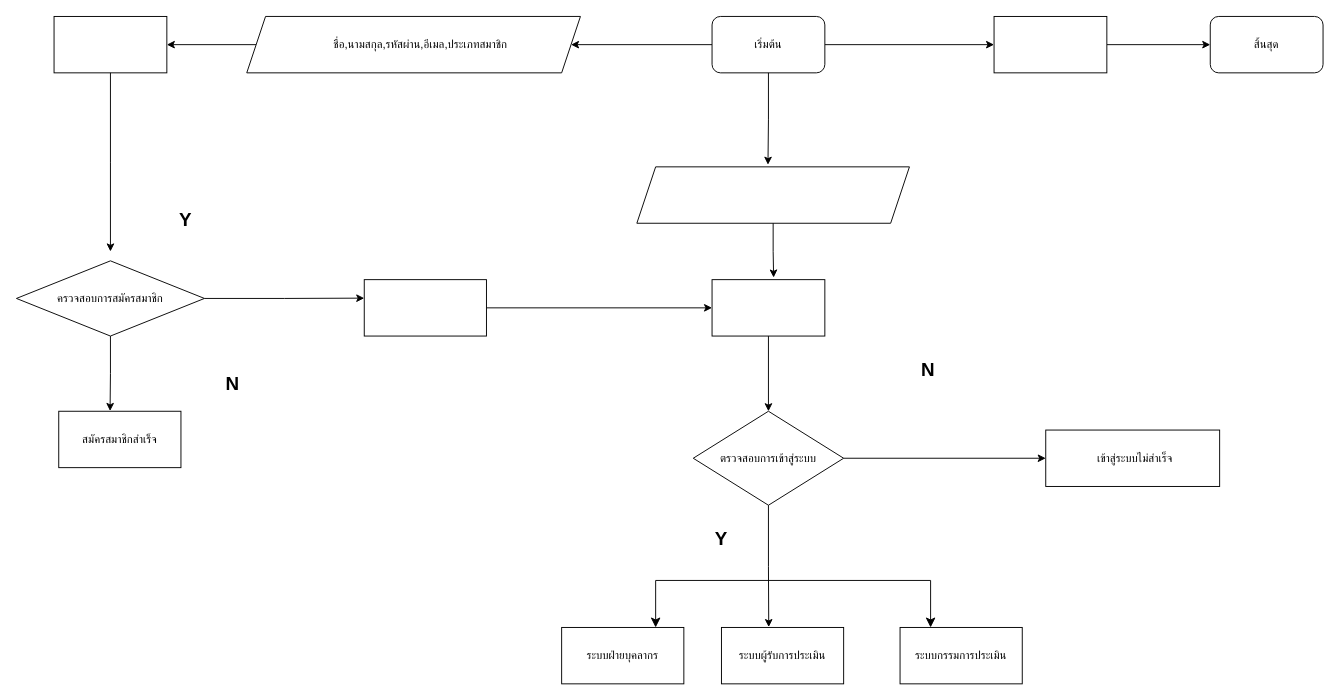
Some shapes in this 1340 by 700 pixel diagram are drawn without their labels. Here are the shapes that lost their labels. From the top down, the centre of each, then its label:
At (110,44): "ระบบสมัครสมาชิก".
At (1050,44): "ออกจากระบบ".
At (772,194): "ชื่อผู้ใช้,รหัสผ่าน,ประเภทสมาชิก".
At (424,307): "สมัครสมาชิกไม่สำเร็จ".
At (768,307): "เข้าสู่ระบบ".
